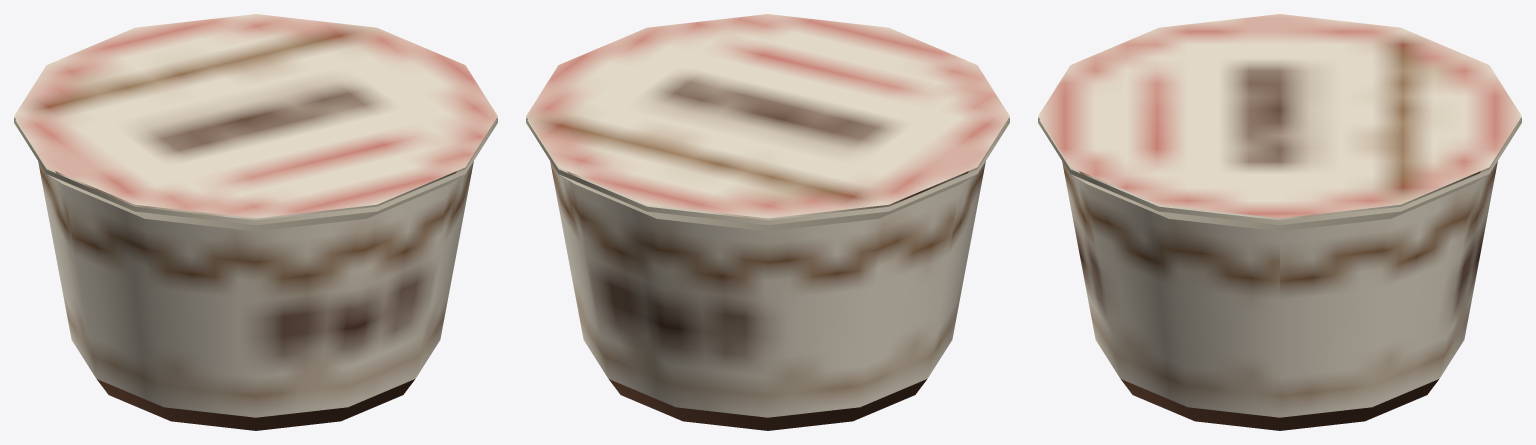
File: SC_Prod_IceCup.gltf
The picture shows the model from 3 angles, left to right: view 1: azimuth 30°, elevation 25°; view 2: azimuth 150°, elevation 25°; view 3: azimuth 270°, elevation 25°; orthographic projection.
Visible parts, largest first — view 1: SC_Prod_IceCup; view 2: SC_Prod_IceCup; view 3: SC_Prod_IceCup.
Part boxes in pixels (x1=…): SC_Prod_IceCup: x1=14, y1=14, x2=497, y2=430; SC_Prod_IceCup: x1=526, y1=14, x2=1009, y2=430; SC_Prod_IceCup: x1=1038, y1=14, x2=1521, y2=430.
Size of the model in its own units: 0.091 by 0.0504 by 0.091.
Materials: 2 (2 with a texture image).
